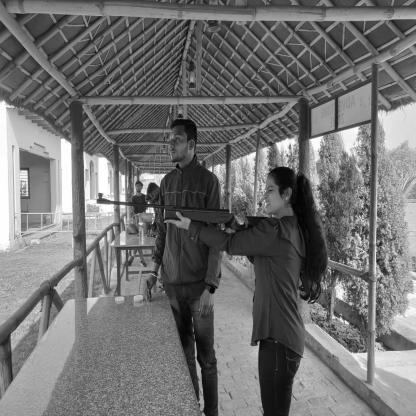rifle: (96, 191, 270, 235)
